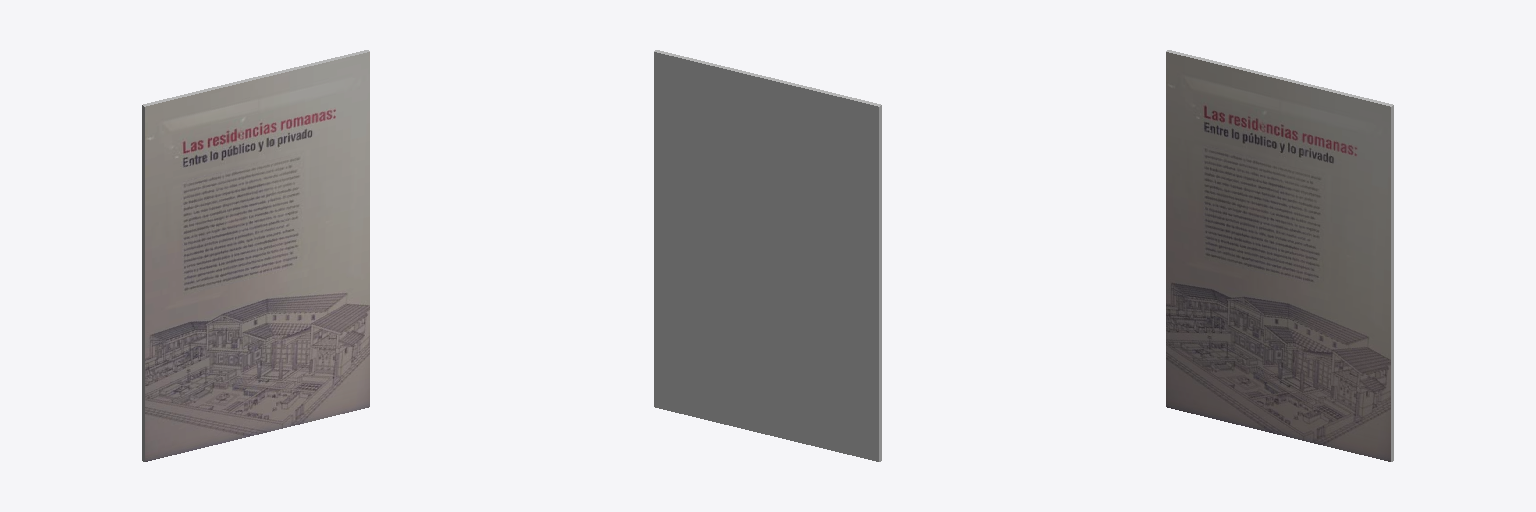
3 views of the same model, side by side, from view 1: azimuth 30°, elevation 25°; view 2: azimuth 150°, elevation 25°; view 3: azimuth 330°, elevation 25° (orthographic).
Parts seen in each view (by area): view 1: SketchUp.001_ID10, SketchUp_ID2; view 2: SketchUp_ID2; view 3: SketchUp.001_ID10, SketchUp_ID2.
Boxes of the visible parts, x1,y1,x2,y2 form: SketchUp.001_ID10: [145, 52, 369, 461]; SketchUp_ID2: [142, 50, 369, 461]; SketchUp_ID2: [654, 50, 881, 461]; SketchUp.001_ID10: [1166, 52, 1390, 461]; SketchUp_ID2: [1166, 50, 1393, 461].
Bounding box in the file's own units: 188 × 283 × 3.94.
2 materials, 1 textured.